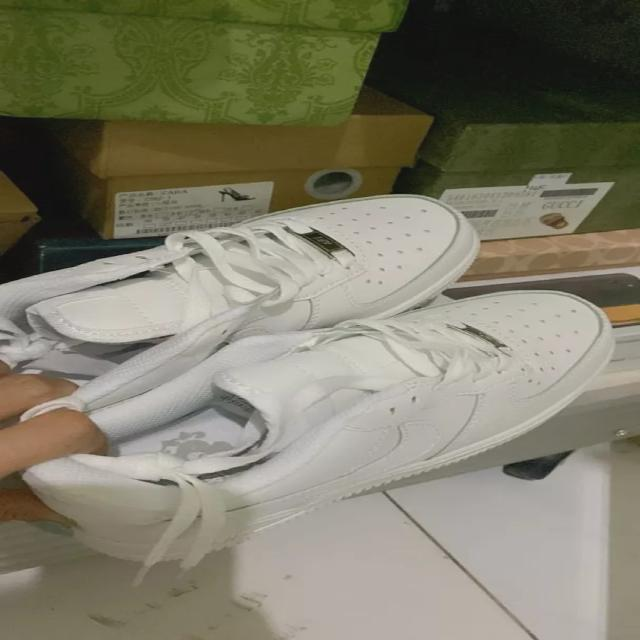nike_fake_airforce: (13, 288, 617, 564), (2, 192, 490, 414)
